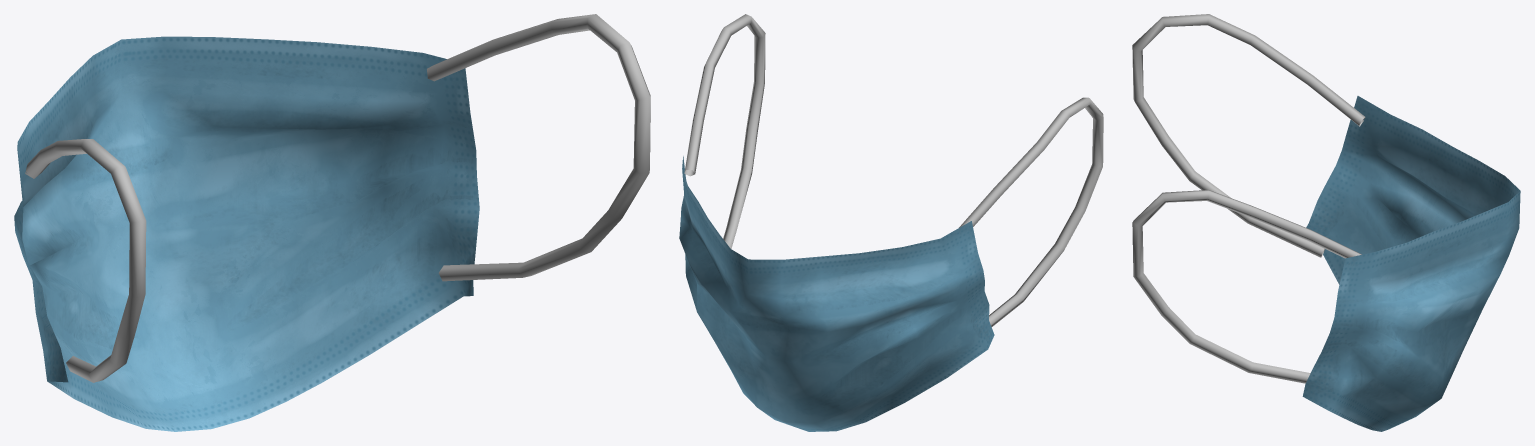
The model's file is Mask.fbx.
3 renders of one model, left to right at view 1: azimuth 30°, elevation 25°; view 2: azimuth 150°, elevation 25°; view 3: azimuth 270°, elevation 25°, orthographic. The views are drawn at different scales.
Visible parts, largest first — view 1: Mask_LP; view 2: Mask_LP; view 3: Mask_LP.
Boxes of the visible parts, <box> form: Mask_LP: <box>14,14,650,431</box>; Mask_LP: <box>679,14,1103,431</box>; Mask_LP: <box>1132,14,1520,431</box>.
Size of the model in its own units: 17.9 by 14.67 by 16.25.
